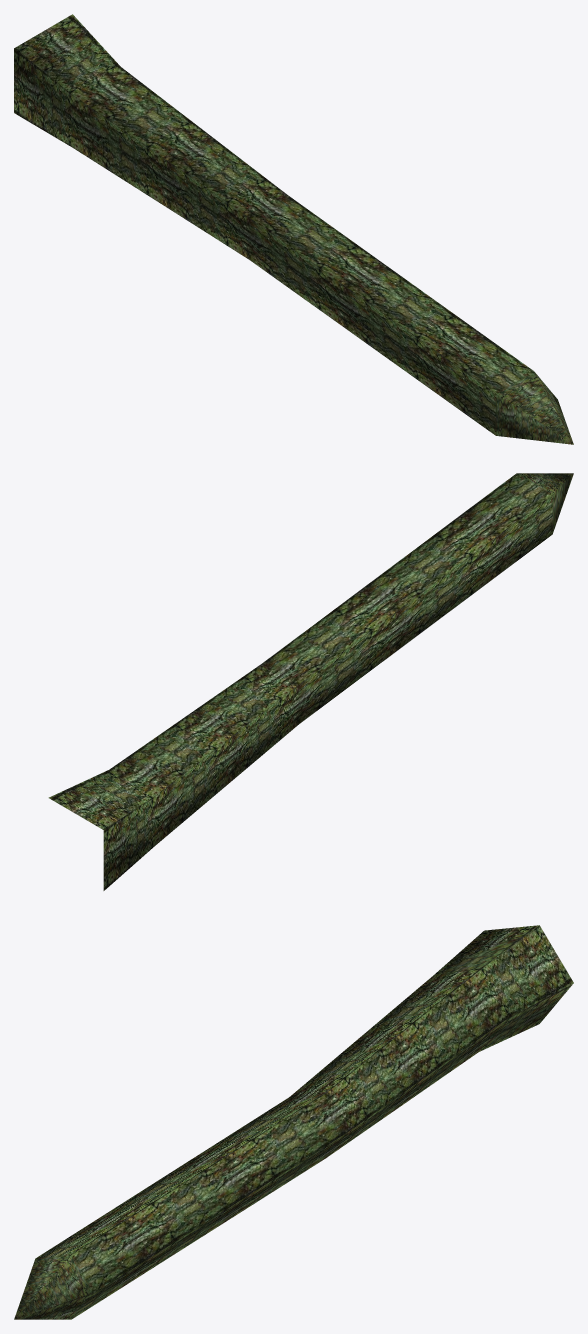
3 views of the same model, one above another, from view 1: azimuth 30°, elevation 25°; view 2: azimuth 150°, elevation 25°; view 3: azimuth 330°, elevation 25° (orthographic). The views are drawn at different scales.
Visible parts, largest first — view 1: model_object03; view 2: model_object03; view 3: model_object03.
Boxes of the visible parts, <box> form: model_object03: <box>14,14,573,444</box>; model_object03: <box>48,473,573,890</box>; model_object03: <box>14,925,573,1319</box>.
Bounding box in the file's own units: 0.5151 × 0.5416 × 4.97.
Materials: 1 (1 with a texture image).
